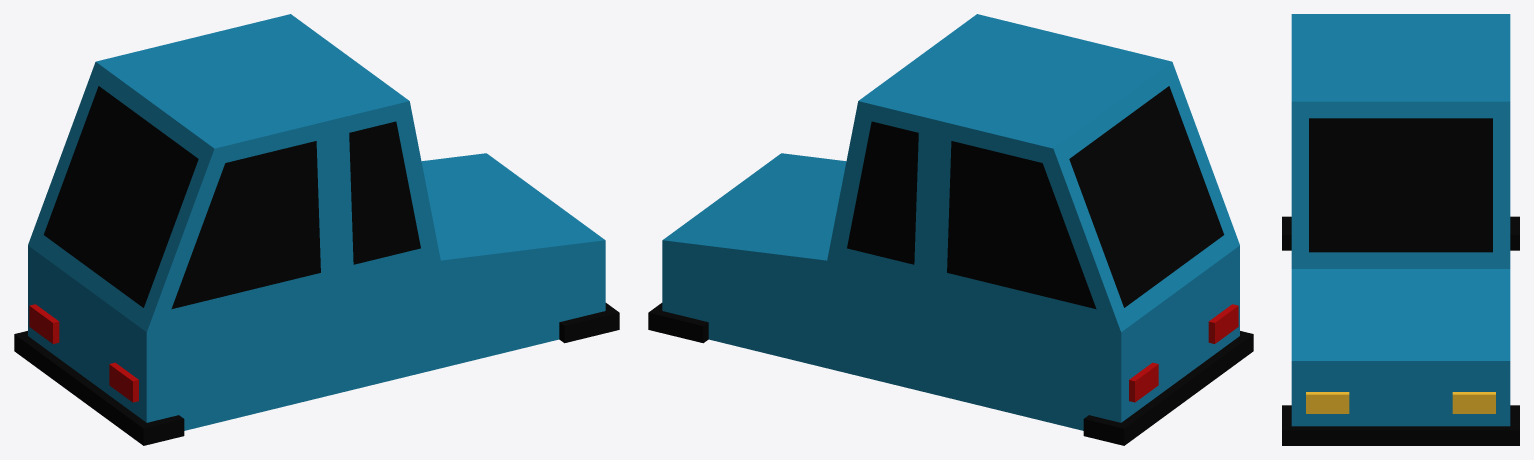
File: CityCar_Kombi_07.fbx
3 views of the same model, side by side, from view 1: azimuth 30°, elevation 25°; view 2: azimuth 150°, elevation 25°; view 3: azimuth 270°, elevation 25° (orthographic). The views are drawn at different scales.
Parts seen in each view (by area): view 1: CityCar_Kombi_07; view 2: CityCar_Kombi_07; view 3: CityCar_Kombi_07.
Part boxes in pixels (x1,y1,x2,y2): CityCar_Kombi_07: (14, 14, 619, 445); CityCar_Kombi_07: (648, 14, 1253, 445); CityCar_Kombi_07: (1282, 14, 1519, 445).
Bounding box in the file's own units: 0.4902 × 0.2706 × 0.2307.
